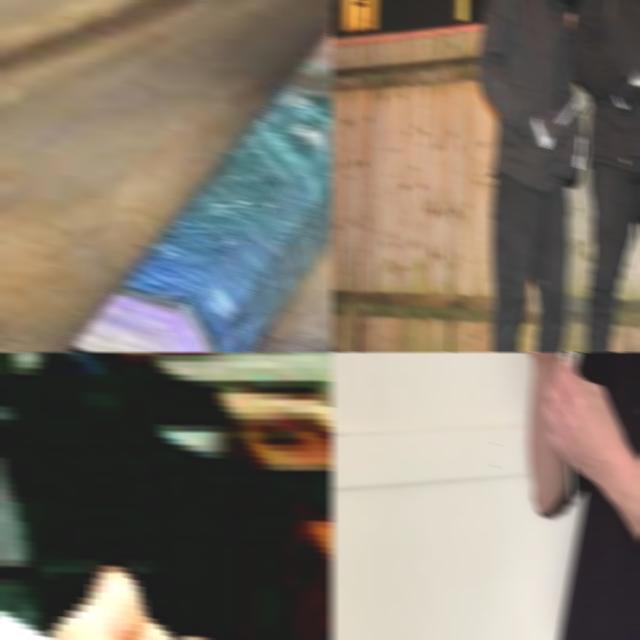Knife_Handle: (0, 470, 334, 640), (543, 352, 613, 501), (532, 92, 588, 152), (614, 26, 640, 115)
